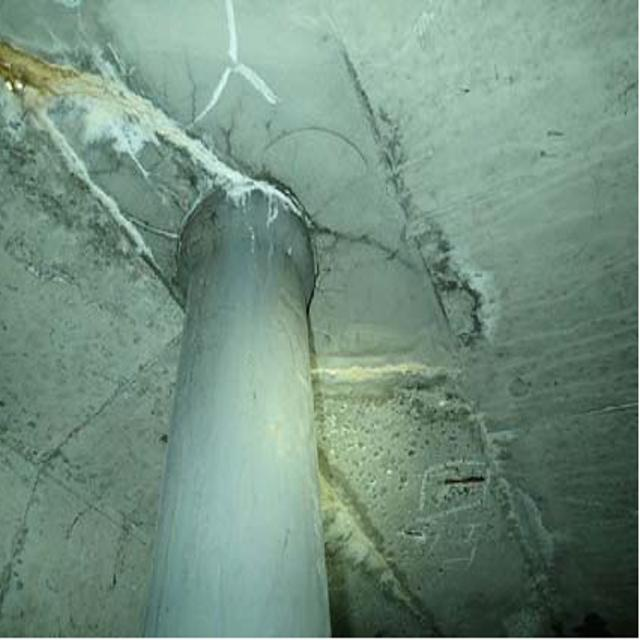freelime: (10, 32, 281, 218), (438, 230, 506, 346)
spalling: (407, 439, 496, 514)
